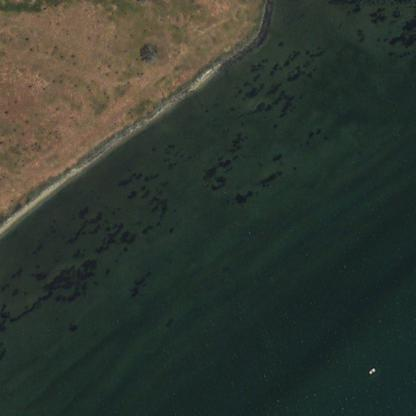ship: (368, 366, 375, 374)
